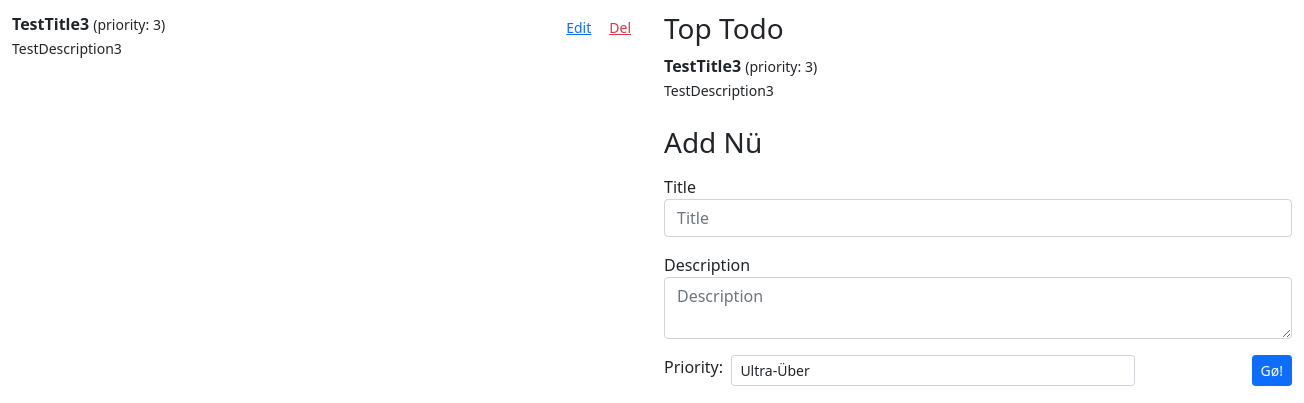
Test case: TodoApp › checks if updating form saves changes
This screenshot has width=1304, height=403.
Click the button "Edit" at (579, 28), box [557, 12, 600, 43]
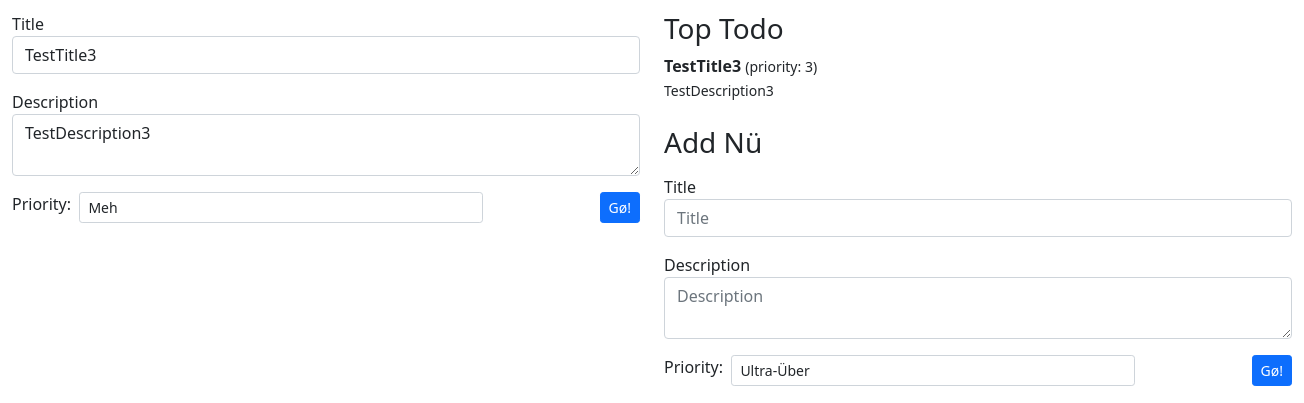
Replace the text in the 1st field labelled "Title" with "Title 4" at (326, 55), box [12, 36, 640, 74]
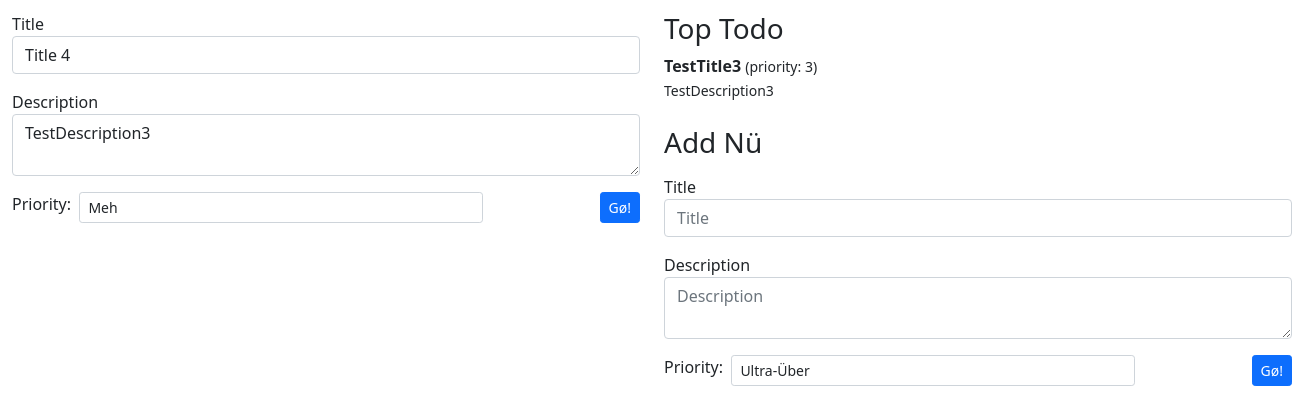
Click the 1st button "Gø!" at (620, 208), box [600, 192, 640, 223]
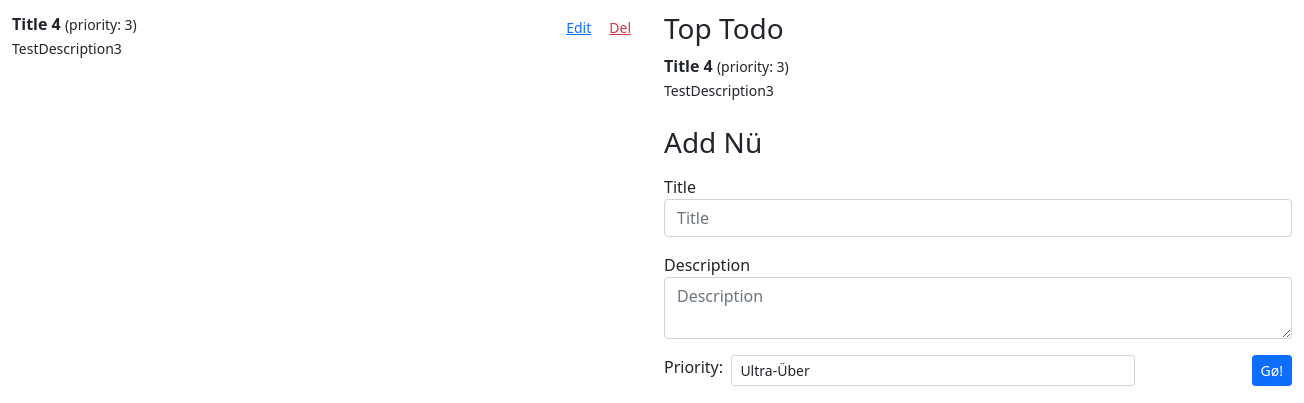
Expected: the 1st text "Title 4" is shown, [12, 13, 61, 35]
Expected: the text "Title 4" is shown 2 times, [12, 13, 61, 35]; [664, 55, 713, 77]
